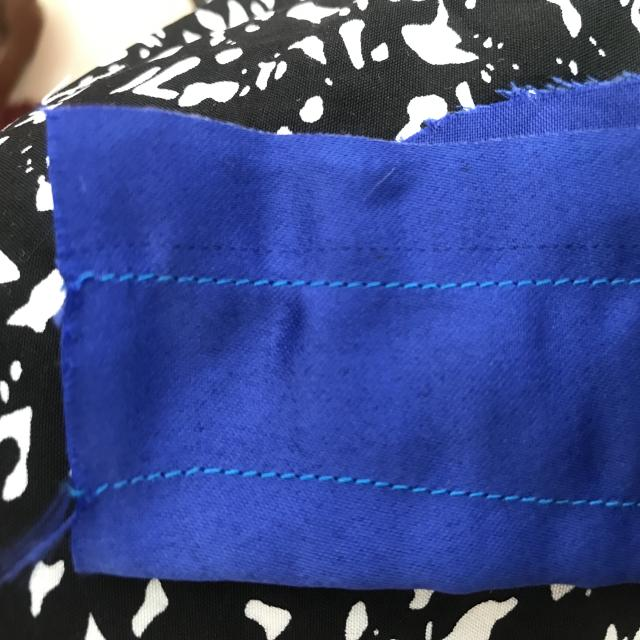good: (274, 461, 395, 498), (214, 266, 335, 300), (411, 474, 507, 512), (503, 268, 610, 294), (377, 274, 481, 298), (550, 488, 622, 516)
